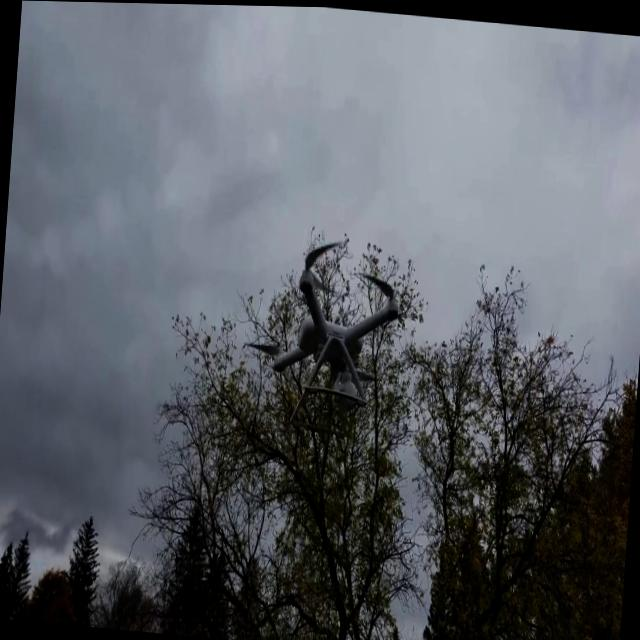drone: (213, 213, 452, 456)
